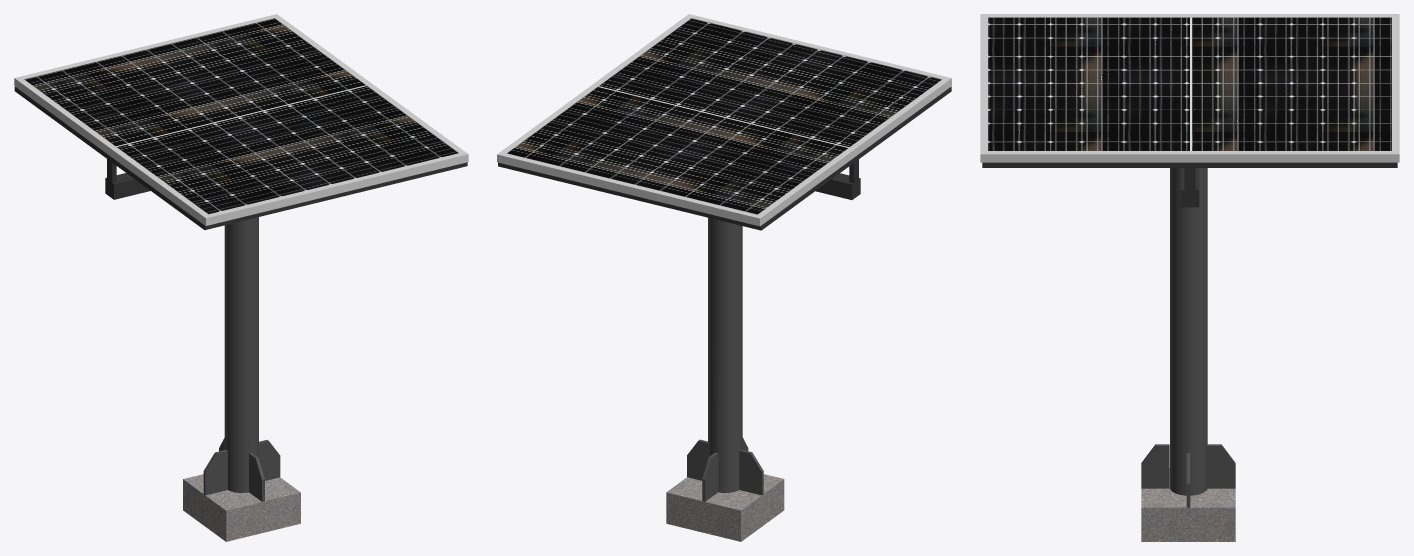
File: SolarTracker_separado.gltf
3 views of the same model, side by side, from view 1: azimuth 30°, elevation 25°; view 2: azimuth 150°, elevation 25°; view 3: azimuth 270°, elevation 25° (orthographic). The views are drawn at different scales.
Visible parts, largest first — view 1: panel, base, inclinacion; view 2: panel, base, inclinacion; view 3: panel, base, inclinacion.
Part boxes in pixels (bbox=[...]): panel: bbox=[14, 14, 468, 225]; base: bbox=[183, 217, 300, 541]; inclinacion: bbox=[14, 86, 467, 229]; panel: bbox=[497, 14, 951, 226]; base: bbox=[666, 217, 784, 541]; inclinacion: bbox=[498, 86, 951, 230]; panel: bbox=[980, 14, 1399, 162]; base: bbox=[1141, 168, 1235, 541]; inclinacion: bbox=[982, 162, 1397, 207].
Bounding box in the file's own units: 1.76 × 2.56 × 2.22.
Materials: 9 (2 with a texture image).
